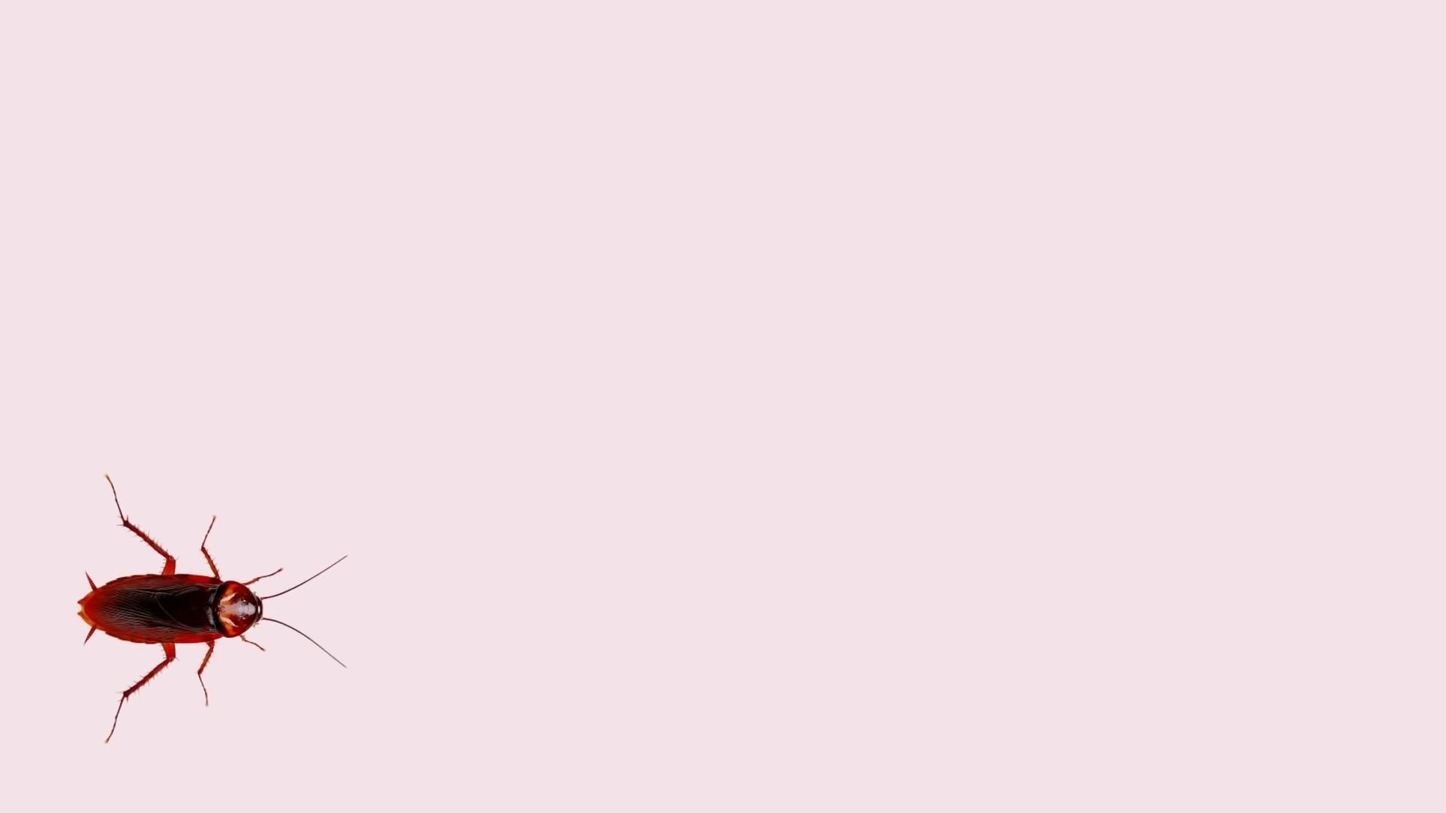cockroach: (41, 470, 340, 751)
